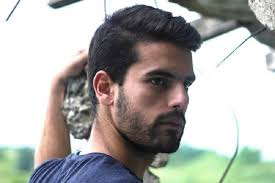b.y: (155, 110, 184, 154)
